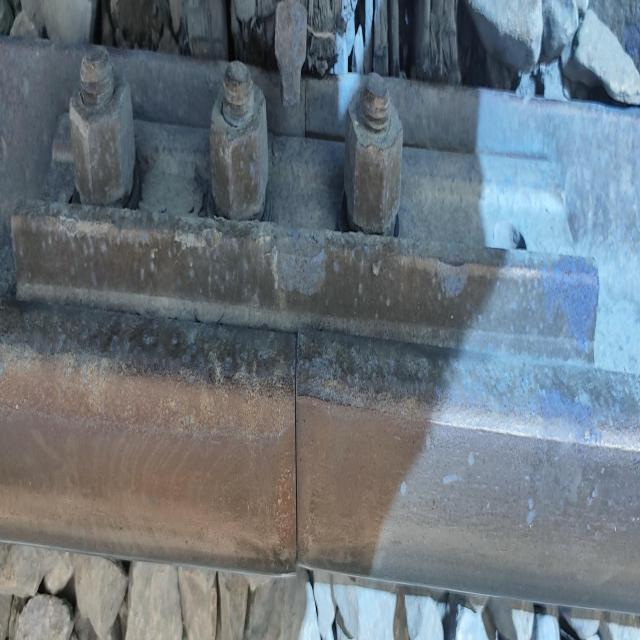Defective Joint: (14, 72, 599, 371)
